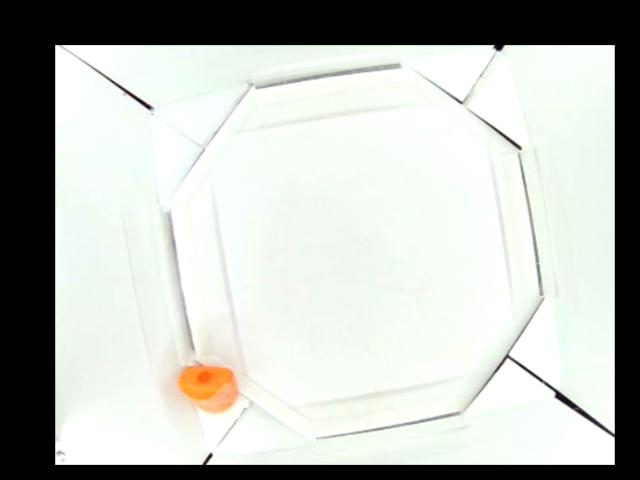Carrot: (180, 364, 238, 412)
